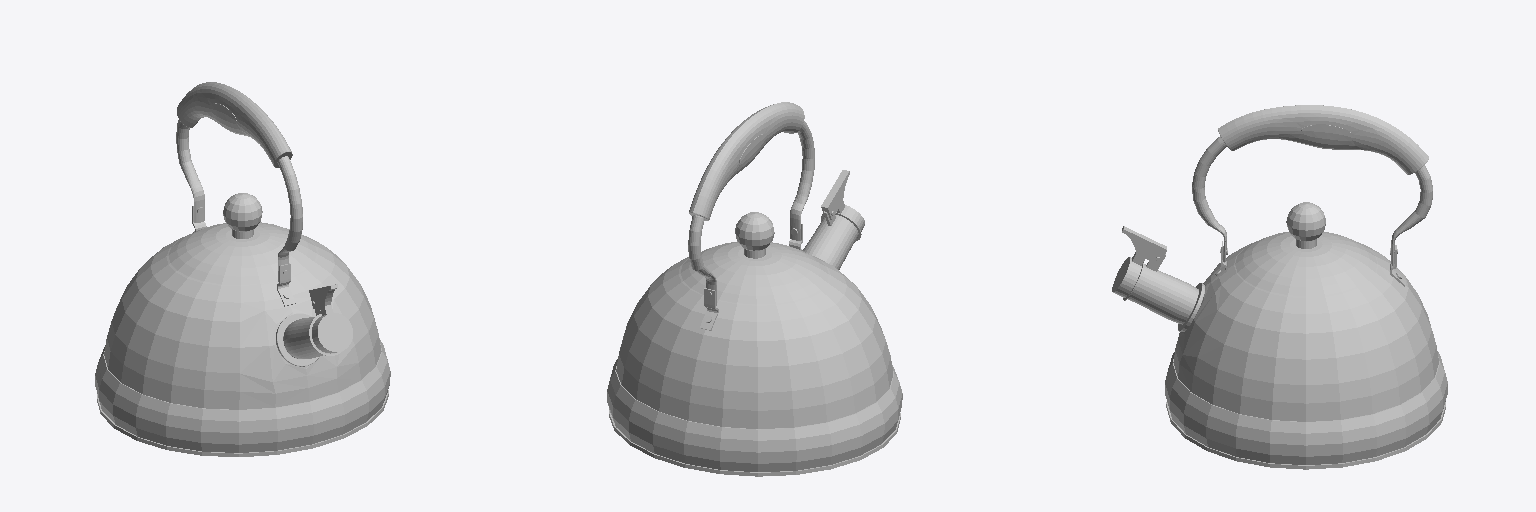
Rendered from uploads_files_3401968_obj_kettle.obj.
The picture shows the model from 3 angles: view 1: azimuth 30°, elevation 25°; view 2: azimuth 150°, elevation 25°; view 3: azimuth 270°, elevation 25°; orthographic projection.
Visible parts, largest first — view 1: body, cover, handle_3, handle_1, mouth_cover_1, mouth, cover_handle, handle_2; view 2: body, cover, handle_3, handle_1, mouth, cover_handle, mouth_cover_1, handle_2; view 3: body, cover, handle_3, mouth, handle_1, mouth_cover_1, cover_handle, handle_design.
Part boxes in pixels (x1,y1,x2,y2): body: (95, 234, 390, 456); cover: (169, 222, 316, 284); handle_3: (177, 82, 292, 167); handle_1: (176, 120, 302, 281); mouth_cover_1: (309, 284, 352, 353); mouth: (276, 312, 343, 366); cover_handle: (223, 193, 262, 231); handle_2: (192, 206, 295, 306); body: (607, 253, 902, 476); cover: (681, 241, 828, 303); handle_3: (689, 102, 804, 220); handle_1: (688, 121, 814, 305); mouth: (803, 212, 861, 269); cover_handle: (735, 212, 774, 250); mouth_cover_1: (821, 170, 864, 231); handle_2: (700, 224, 803, 330); body: (1165, 241, 1447, 469); cover: (1235, 232, 1376, 295); handle_3: (1218, 105, 1428, 174); mouth: (1123, 262, 1204, 331); handle_1: (1192, 136, 1432, 265); mouth_cover_1: (1112, 226, 1166, 297); cover_handle: (1286, 202, 1325, 241); handle_design: (1301, 125, 1353, 140).
Bounding box in the file's own units: 708 × 788 × 794.